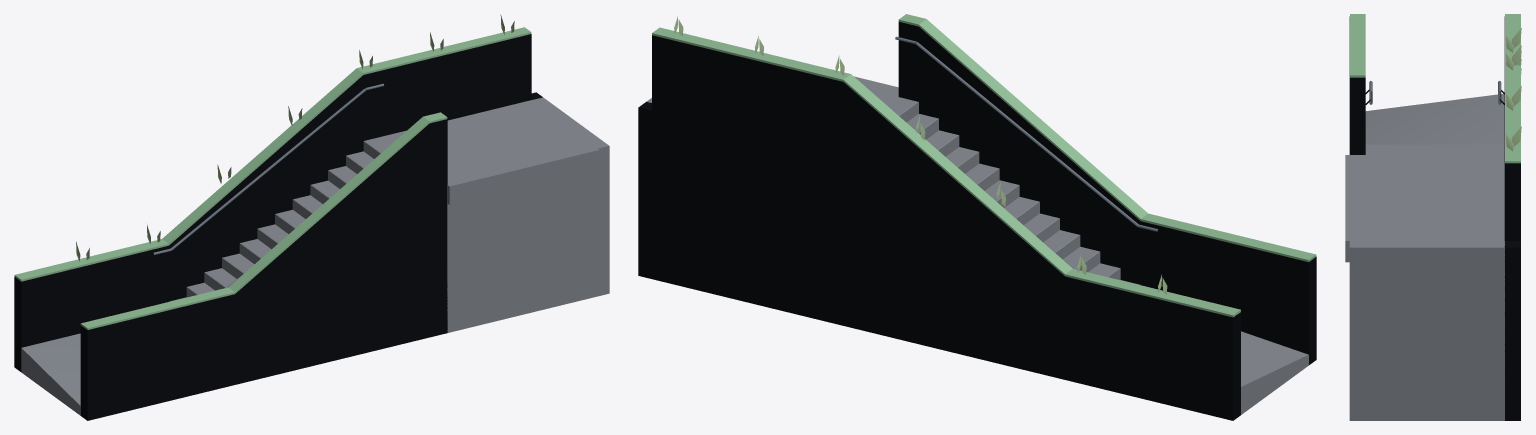
3 views of the same model, side by side, from view 1: azimuth 30°, elevation 25°; view 2: azimuth 150°, elevation 25°; view 3: azimuth 270°, elevation 25° (orthographic). The views are drawn at different scales.
Visible parts, largest first — view 1: Cheek_Walls, Stair_Body, Cheek_Caps, Handrail, Leaf_Crests; view 2: Cheek_Walls, Cheek_Caps, Stair_Body, Handrail, Leaf_Crests; view 3: Stair_Body, Cheek_Walls, Cheek_Caps, Leaf_Crests, Handrail.
Part boxes in pixels (box(x1,y1,x2,y2)): Cheek_Walls: box(14, 34, 542, 420); Stair_Body: box(21, 97, 609, 415); Cheek_Caps: box(14, 27, 531, 329); Handrail: box(153, 83, 384, 287); Leaf_Crests: box(76, 14, 514, 261); Cheek_Walls: box(638, 22, 1316, 420); Cheek_Caps: box(652, 14, 1316, 317); Stair_Body: box(647, 76, 1308, 414); Handrail: box(895, 36, 1157, 268); Leaf_Crests: box(674, 16, 1167, 294); Stair_Body: box(1345, 93, 1504, 420); Cheek_Walls: box(1349, 16, 1520, 420); Cheek_Caps: box(1350, 14, 1520, 163); Leaf_Crests: box(1506, 28, 1521, 151); Handrail: box(1369, 81, 1501, 104).
Size of what is drawn, in the model's own units: 8.85 by 3.8 by 2.21.
7 materials, 4 textured.
